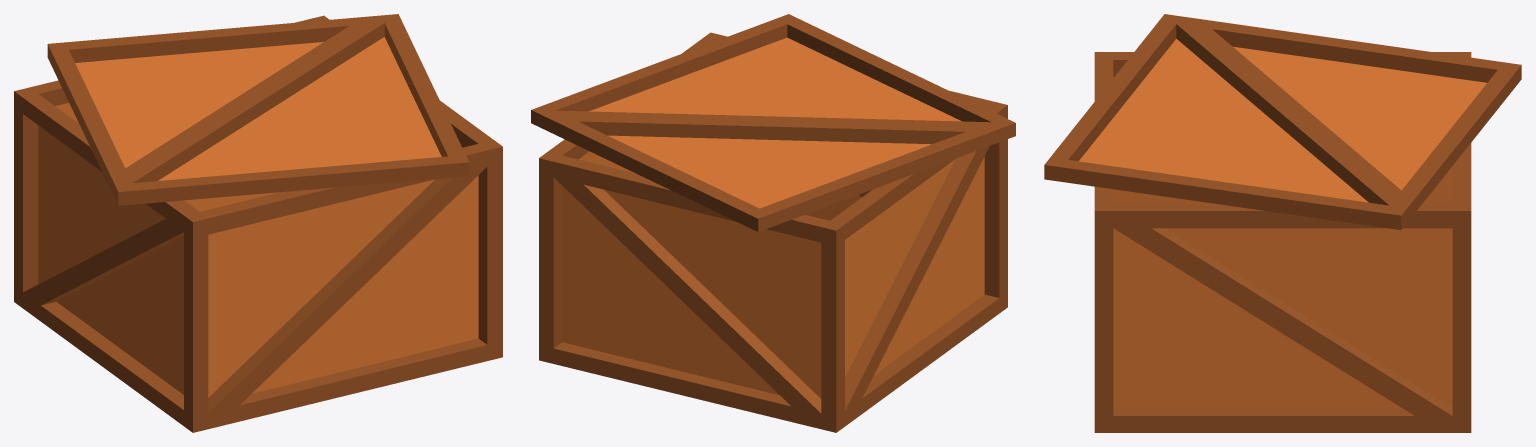
The picture shows the model from 3 angles, left to right: view 1: azimuth 30°, elevation 25°; view 2: azimuth 150°, elevation 25°; view 3: azimuth 270°, elevation 25°; orthographic projection. The views are drawn at different scales.
Visible parts, largest first — view 1: Cube, Cube.001; view 2: Cube, Cube.001; view 3: Cube, Cube.001.
Part boxes in pixels (<box>): Cube: <box>14,15,502,432</box>; Cube.001: <box>47,14,469,205</box>; Cube: <box>539,32,1007,432</box>; Cube.001: <box>531,14,1015,231</box>; Cube: <box>1094,52,1471,432</box>; Cube.001: <box>1044,14,1521,229</box>.
Bounding box in the file's own units: 1267 × 699 × 1267.
